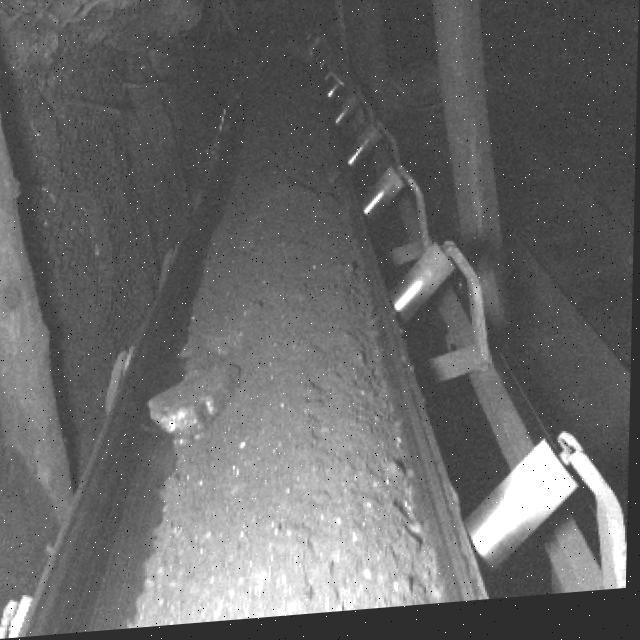large_sized_coal: (150, 367, 243, 443)
